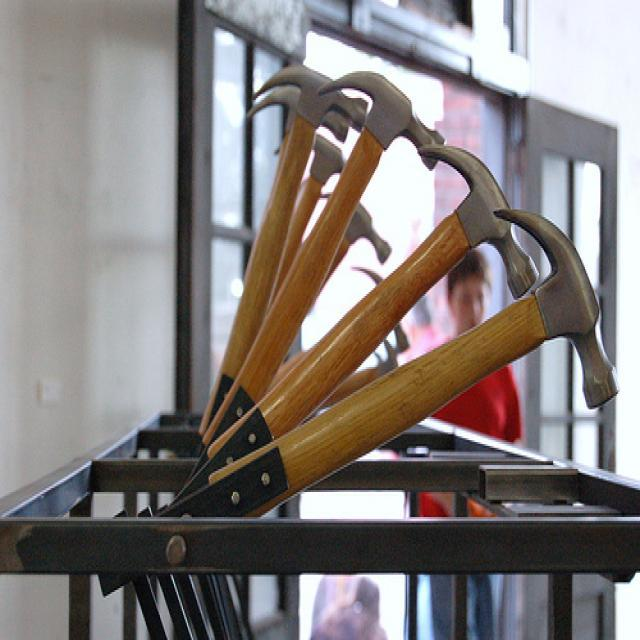hammer: (214, 195, 629, 522), (192, 132, 552, 484), (193, 56, 458, 444), (188, 56, 372, 428)
